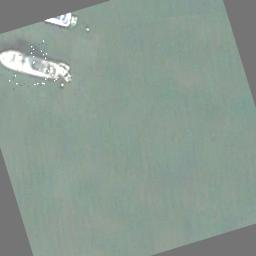boat: (0, 36, 64, 95)
